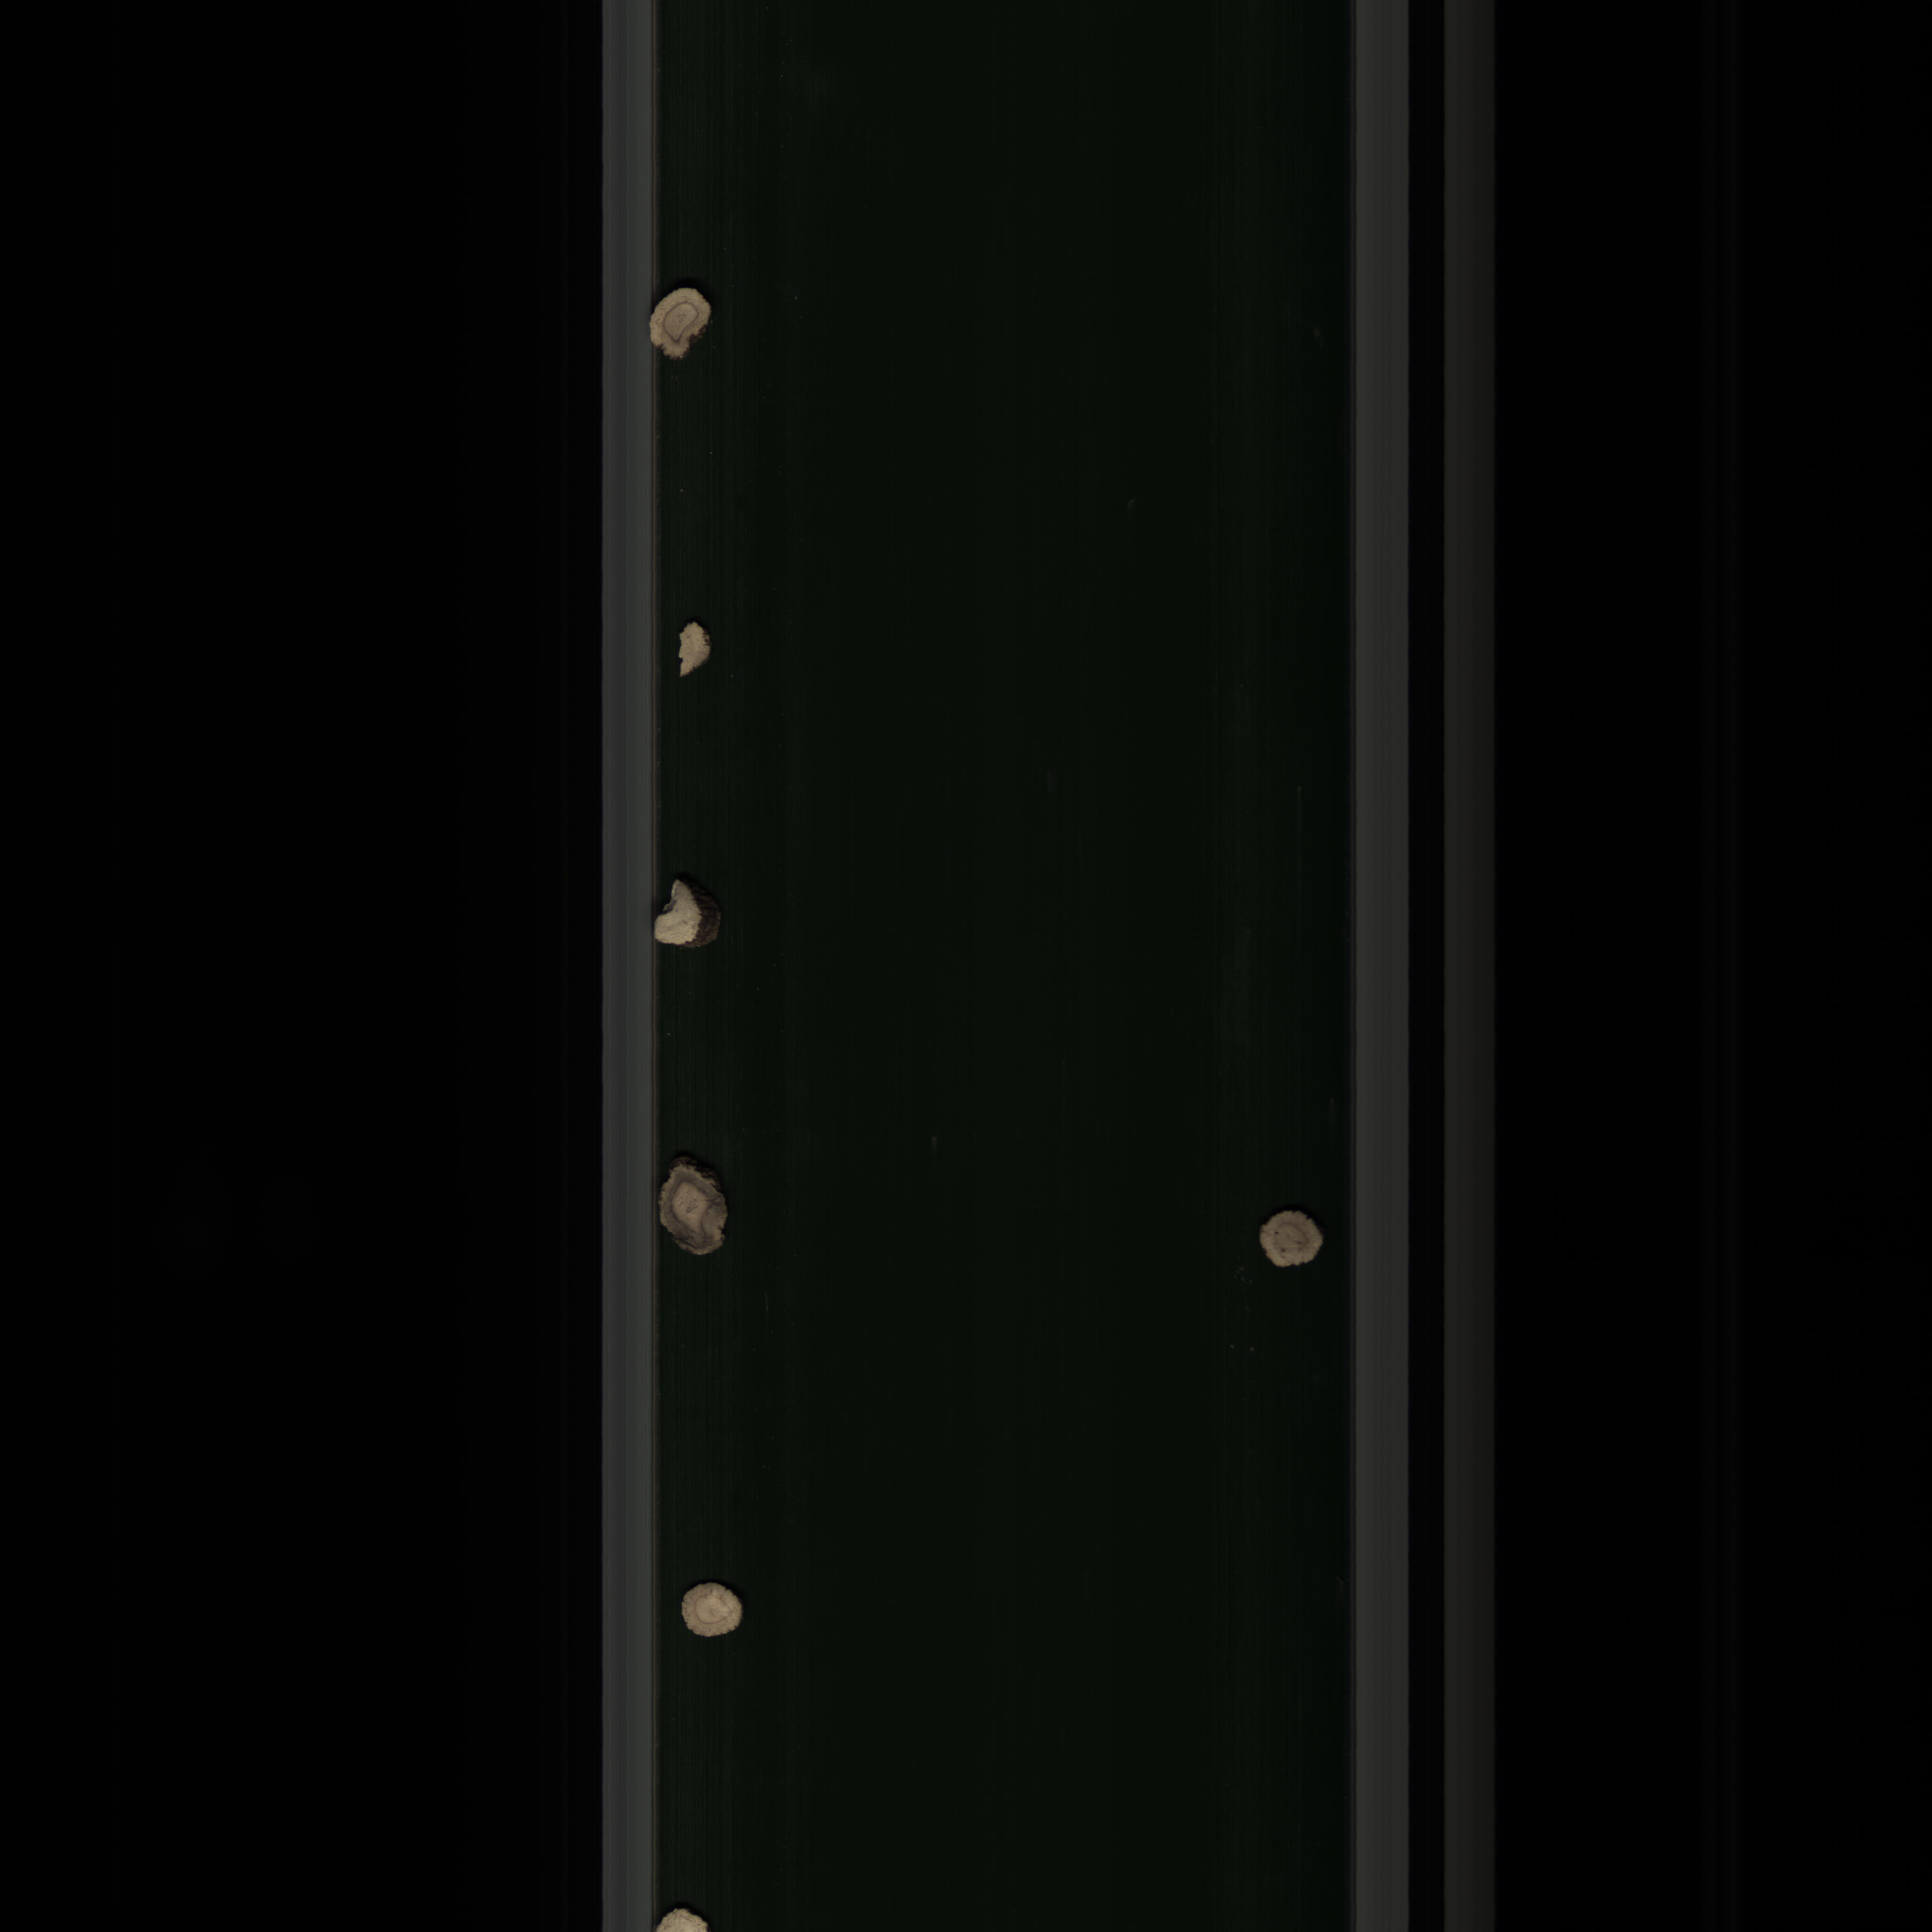debris: (642, 874, 729, 955), (672, 617, 715, 683)
hole: (1253, 1201, 1330, 1281)
moldy: (655, 1154, 734, 1270), (637, 281, 713, 364)
